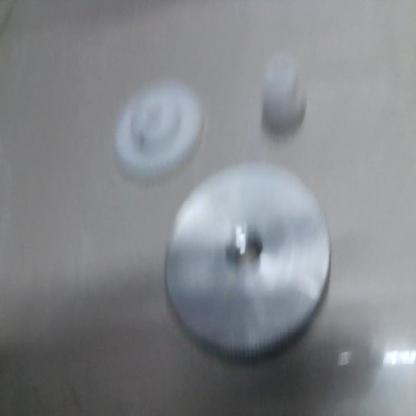FOD: (160, 150, 332, 360), (104, 78, 207, 192), (250, 49, 314, 138)
